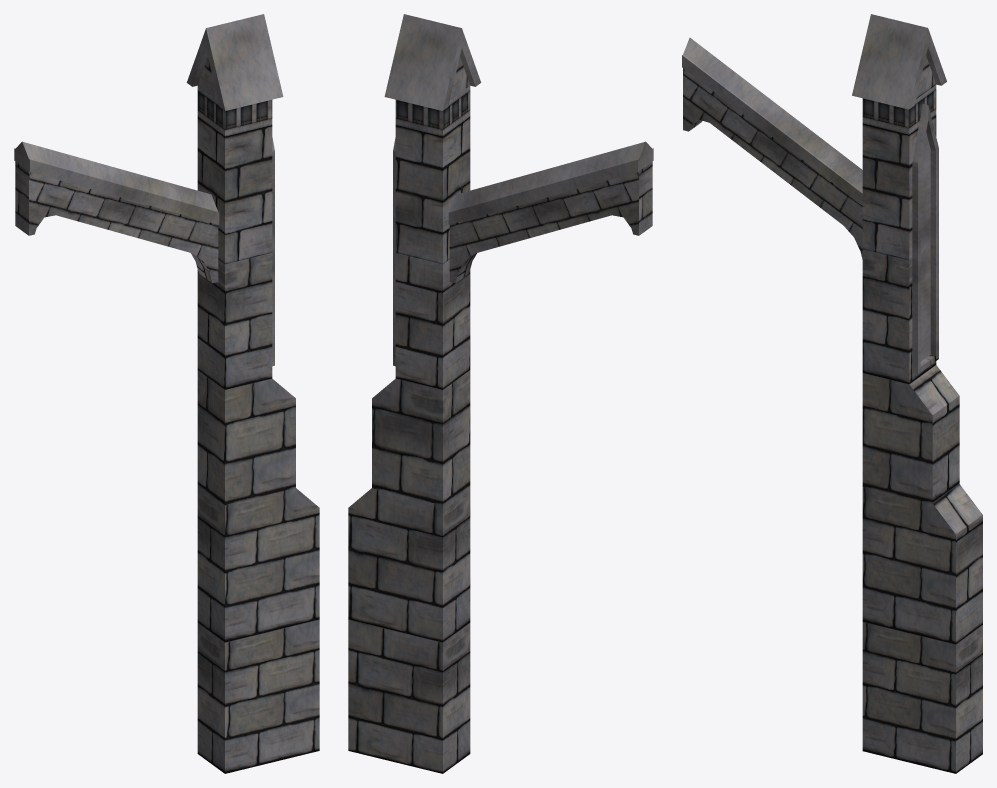
Rendered from flying_buttress_01.fbx.
The picture shows the model from 3 angles, left to right: view 1: azimuth 30°, elevation 25°; view 2: azimuth 150°, elevation 25°; view 3: azimuth 330°, elevation 25°; orthographic projection.
Parts seen in each view (by area): view 1: flying_buttress_01; view 2: flying_buttress_01; view 3: flying_buttress_01.
Part boxes in pixels (<box>): flying_buttress_01: <box>14,14,319,773</box>; flying_buttress_01: <box>348,14,653,773</box>; flying_buttress_01: <box>682,14,982,773</box>.
Bounding box in the file's own units: 1200 × 2977 × 283.
